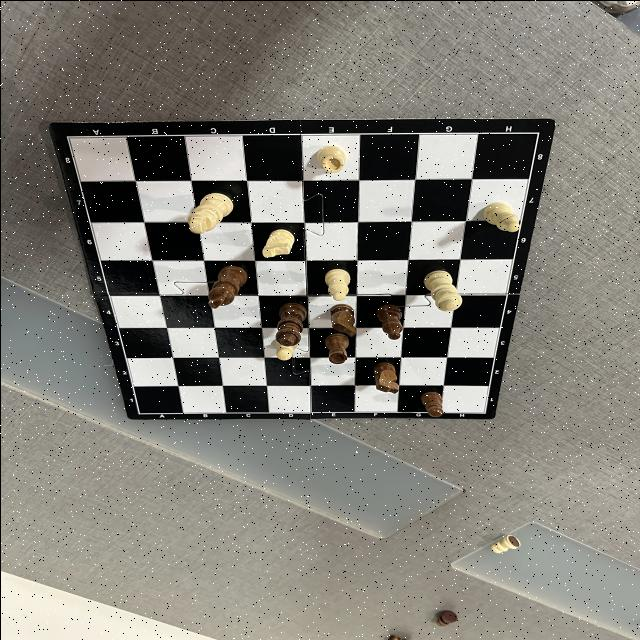Black-Bishop: (374, 303, 402, 339)
Black-King: (206, 264, 247, 308)
Black-Knight: (328, 302, 354, 336), (372, 361, 398, 393)
Black-Pawn: (418, 391, 442, 416)
Black-Queen: (274, 302, 306, 346)
Black-Rook: (323, 332, 348, 364)
White-Bishop: (481, 202, 519, 232), (324, 268, 349, 300)
White-King: (185, 192, 232, 234)
White-Knight: (261, 228, 294, 257)
White-Pawn: (488, 533, 520, 553), (274, 340, 296, 360)
White-Queen: (422, 269, 462, 311)
White-Rook: (314, 144, 346, 172)
